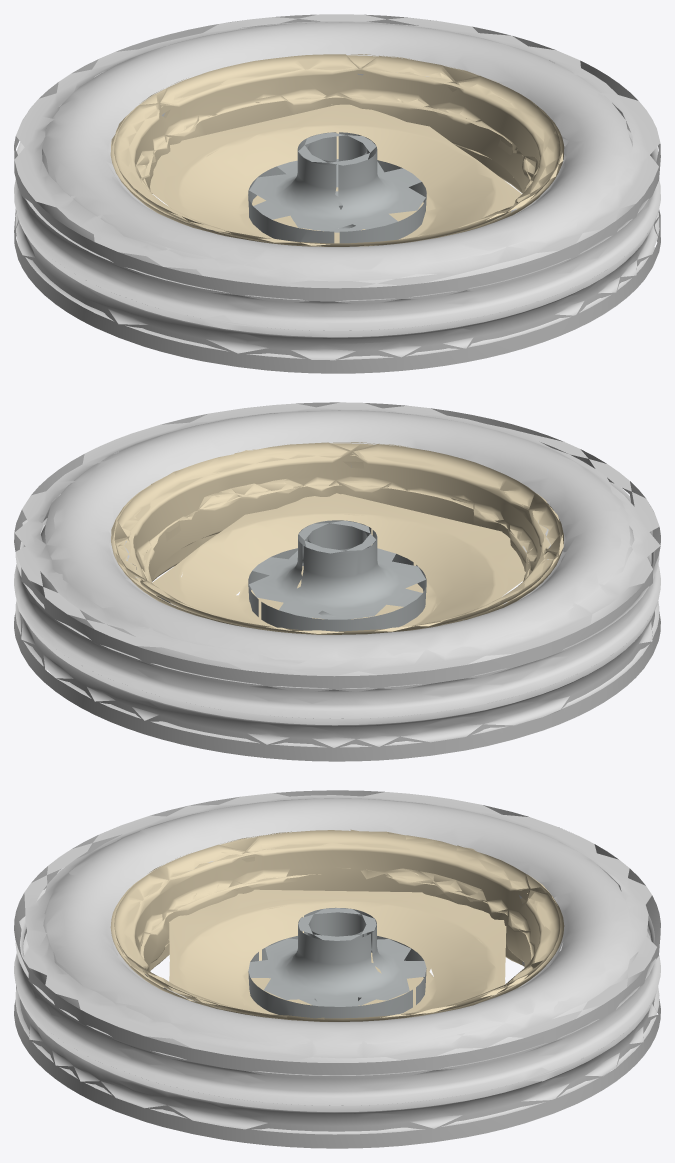
Rendered from front_right_wheel_visual.obj.
3 views of the same model, one above another, from view 1: azimuth 30°, elevation 25°; view 2: azimuth 150°, elevation 25°; view 3: azimuth 270°, elevation 25° (orthographic).
Visible parts, largest first — view 1: front_right_wheel_visual; view 2: front_right_wheel_visual; view 3: front_right_wheel_visual.
Boxes of the visible parts, x1,y1,x2,y2 form: front_right_wheel_visual: (14,14,660,373); front_right_wheel_visual: (14,402,660,761); front_right_wheel_visual: (14,790,660,1148).
Bounding box in the file's own units: 0.2681 × 0.0504 × 0.2681.
